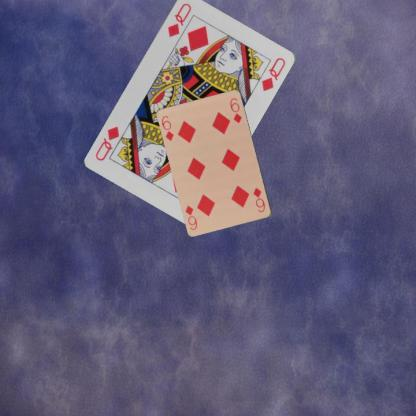6d: (159, 113, 175, 142), (251, 185, 266, 214)
Qd: (165, 0, 192, 39)
